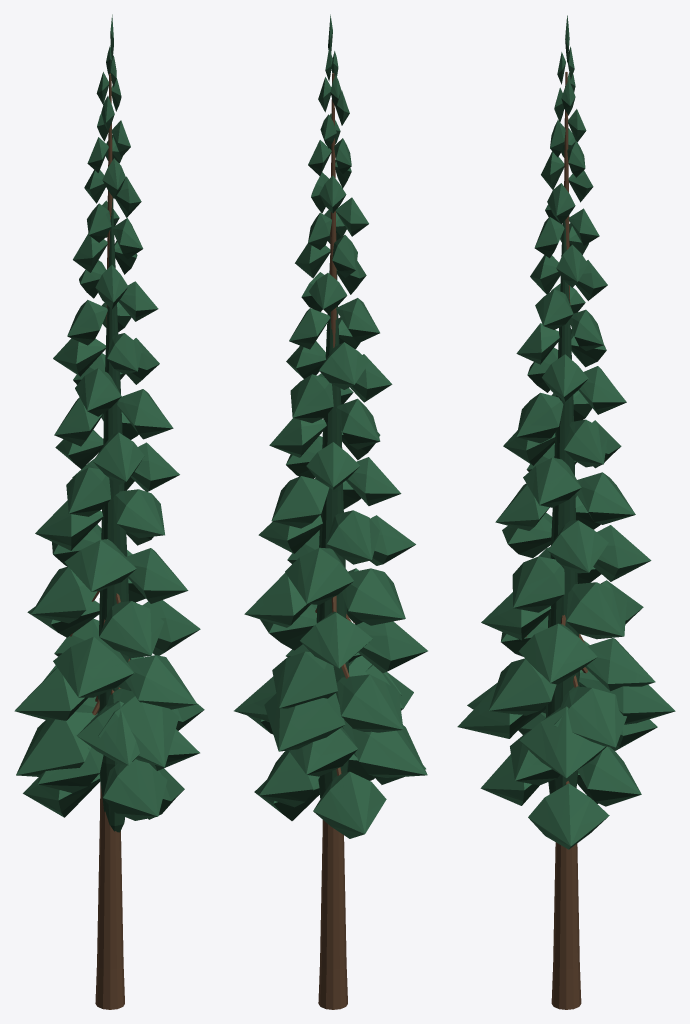
Rendered from tall-narrow-lod0.glb.
3 renders of one model, left to right at view 1: azimuth 30°, elevation 25°; view 2: azimuth 150°, elevation 25°; view 3: azimuth 270°, elevation 25°, orthographic.
Parts seen in each view (by area): view 1: OuterNeedles, InnerNeedles, Bark; view 2: OuterNeedles, InnerNeedles, Bark; view 3: OuterNeedles, InnerNeedles, Bark.
Part boxes in pixels (bbox=[...]): OuterNeedles: bbox=[14, 14, 204, 816]; InnerNeedles: bbox=[15, 32, 203, 832]; Bark: bbox=[70, 73, 129, 1009]; OuterNeedles: bbox=[234, 14, 427, 833]; InnerNeedles: bbox=[235, 32, 427, 838]; Bark: bbox=[315, 73, 354, 1009]; OuterNeedles: bbox=[457, 15, 675, 846]; InnerNeedles: bbox=[458, 39, 674, 849]; Bark: bbox=[526, 72, 587, 1009].
Size of the model in its own units: 5 by 25 by 5.
